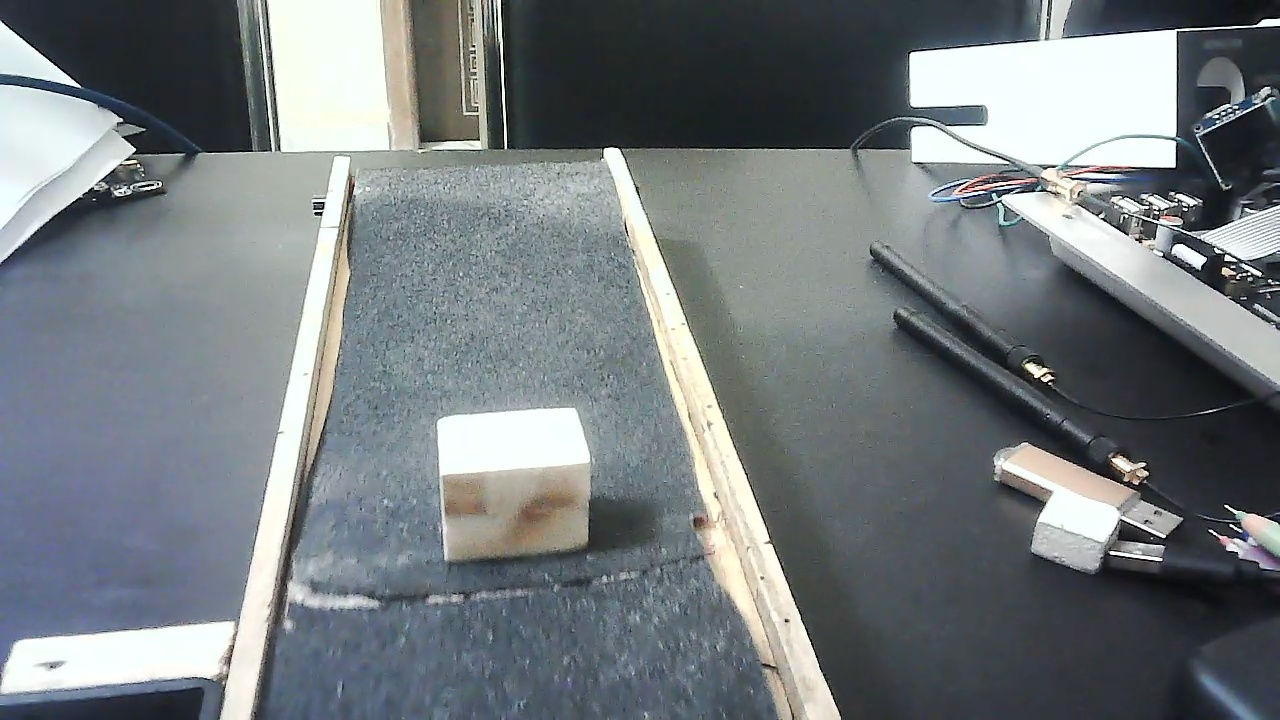Medium: (437, 406, 594, 563)
